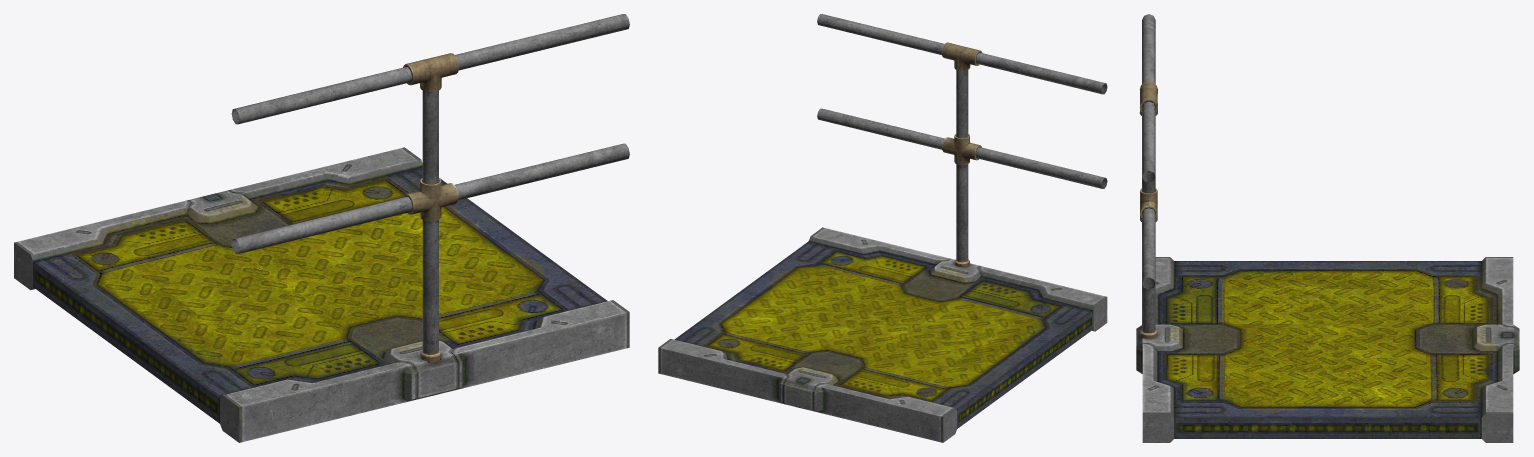
File: catwalk_straight_short_railing_oneside.dae
3 renders of one model, left to right at view 1: azimuth 30°, elevation 25°; view 2: azimuth 150°, elevation 25°; view 3: azimuth 270°, elevation 25°, orthographic. The views are drawn at different scales.
Parts seen in each view (by area): view 1: straight_short_railing_onseside, railing__7_; view 2: straight_short_railing_onseside, railing__7_; view 3: straight_short_railing_onseside, railing__7_.
Boxes of the visible parts, x1,y1,x2,y2 form: straight_short_railing_onseside: (14,147,629,442); railing__7_: (231,14,629,362); straight_short_railing_onseside: (658,227,1107,442); railing__7_: (817,14,1107,267); straight_short_railing_onseside: (1136,257,1519,442); railing__7_: (1139,14,1157,338).
Size of the model in its own units: 2 by 1.63 by 2.07.
